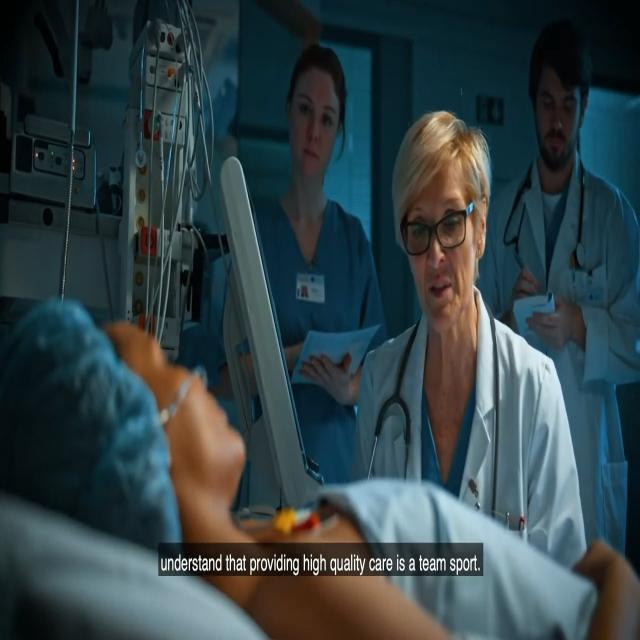Doctor: (376, 77, 507, 430), (513, 17, 640, 346)
Nurse: (271, 33, 366, 280)
Patient: (1, 282, 289, 638)
